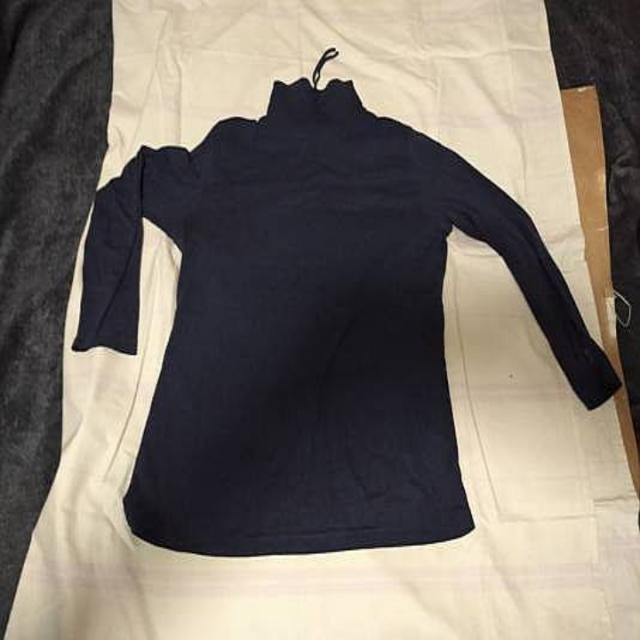SHIRT: (66, 65, 621, 561)
